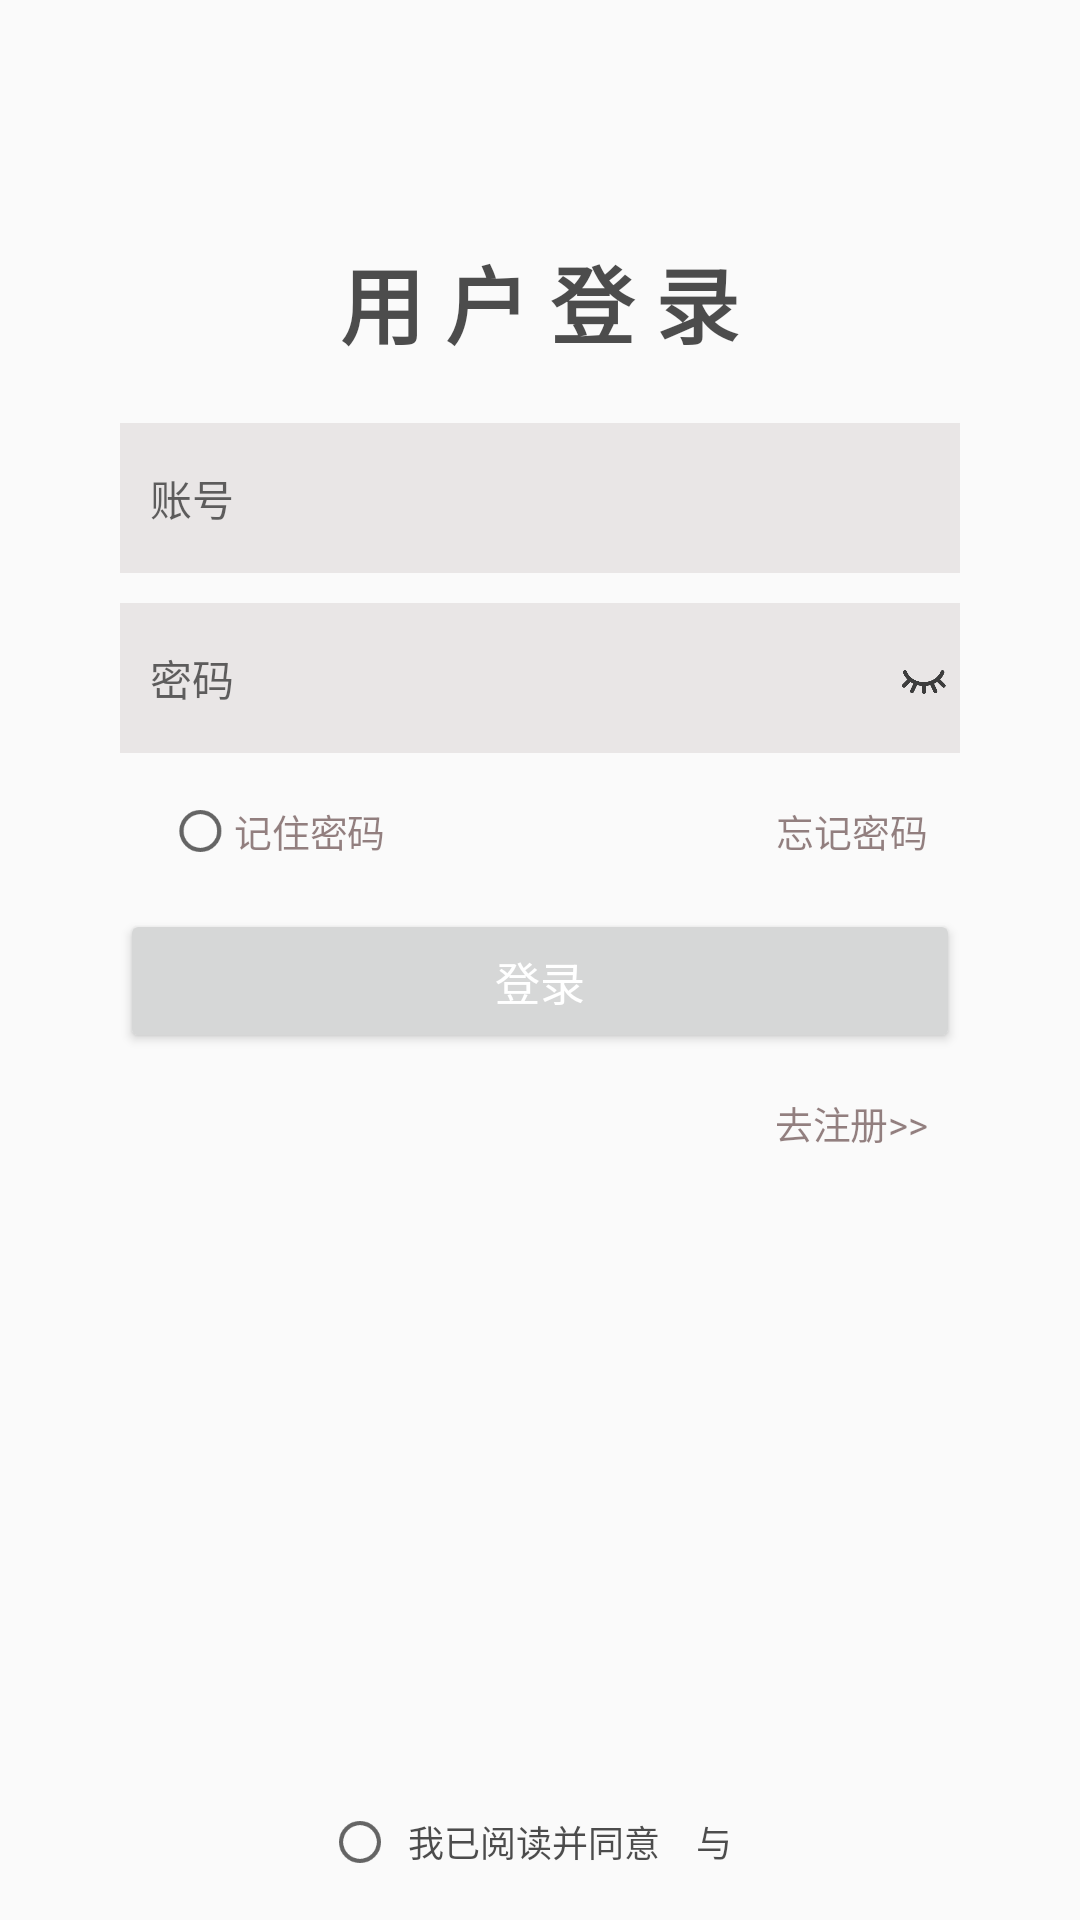

Icon bounding boxes for this 1080 × 1920 phone screenshot, format box(x1, y1, x2, y2):
close eys: box(902, 670, 946, 694)
